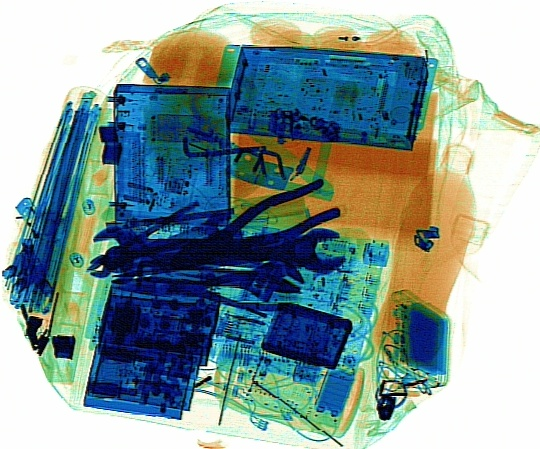lighter: (12, 195, 76, 275)
